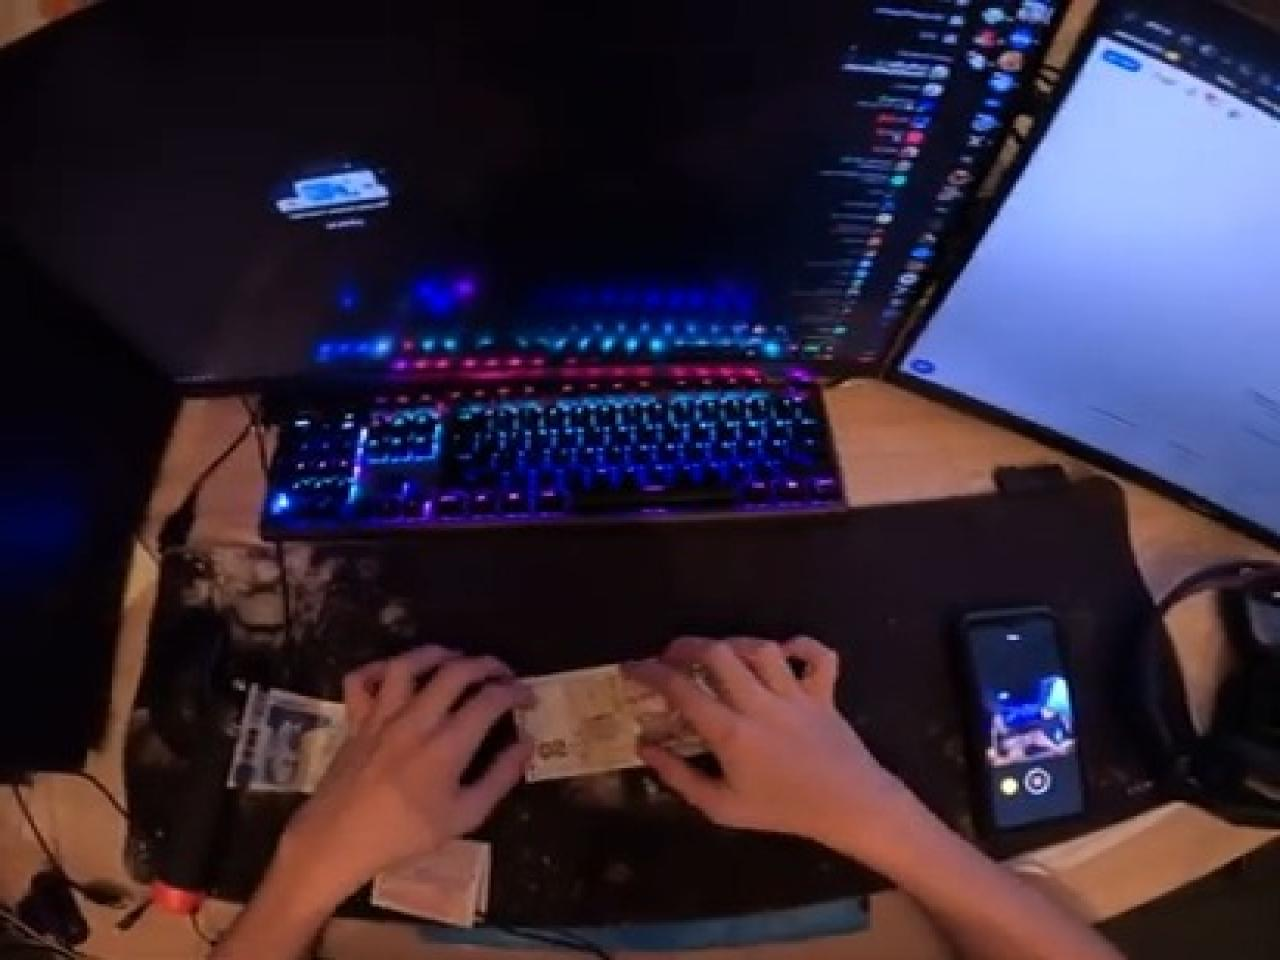50leva: (513, 645, 829, 803)
